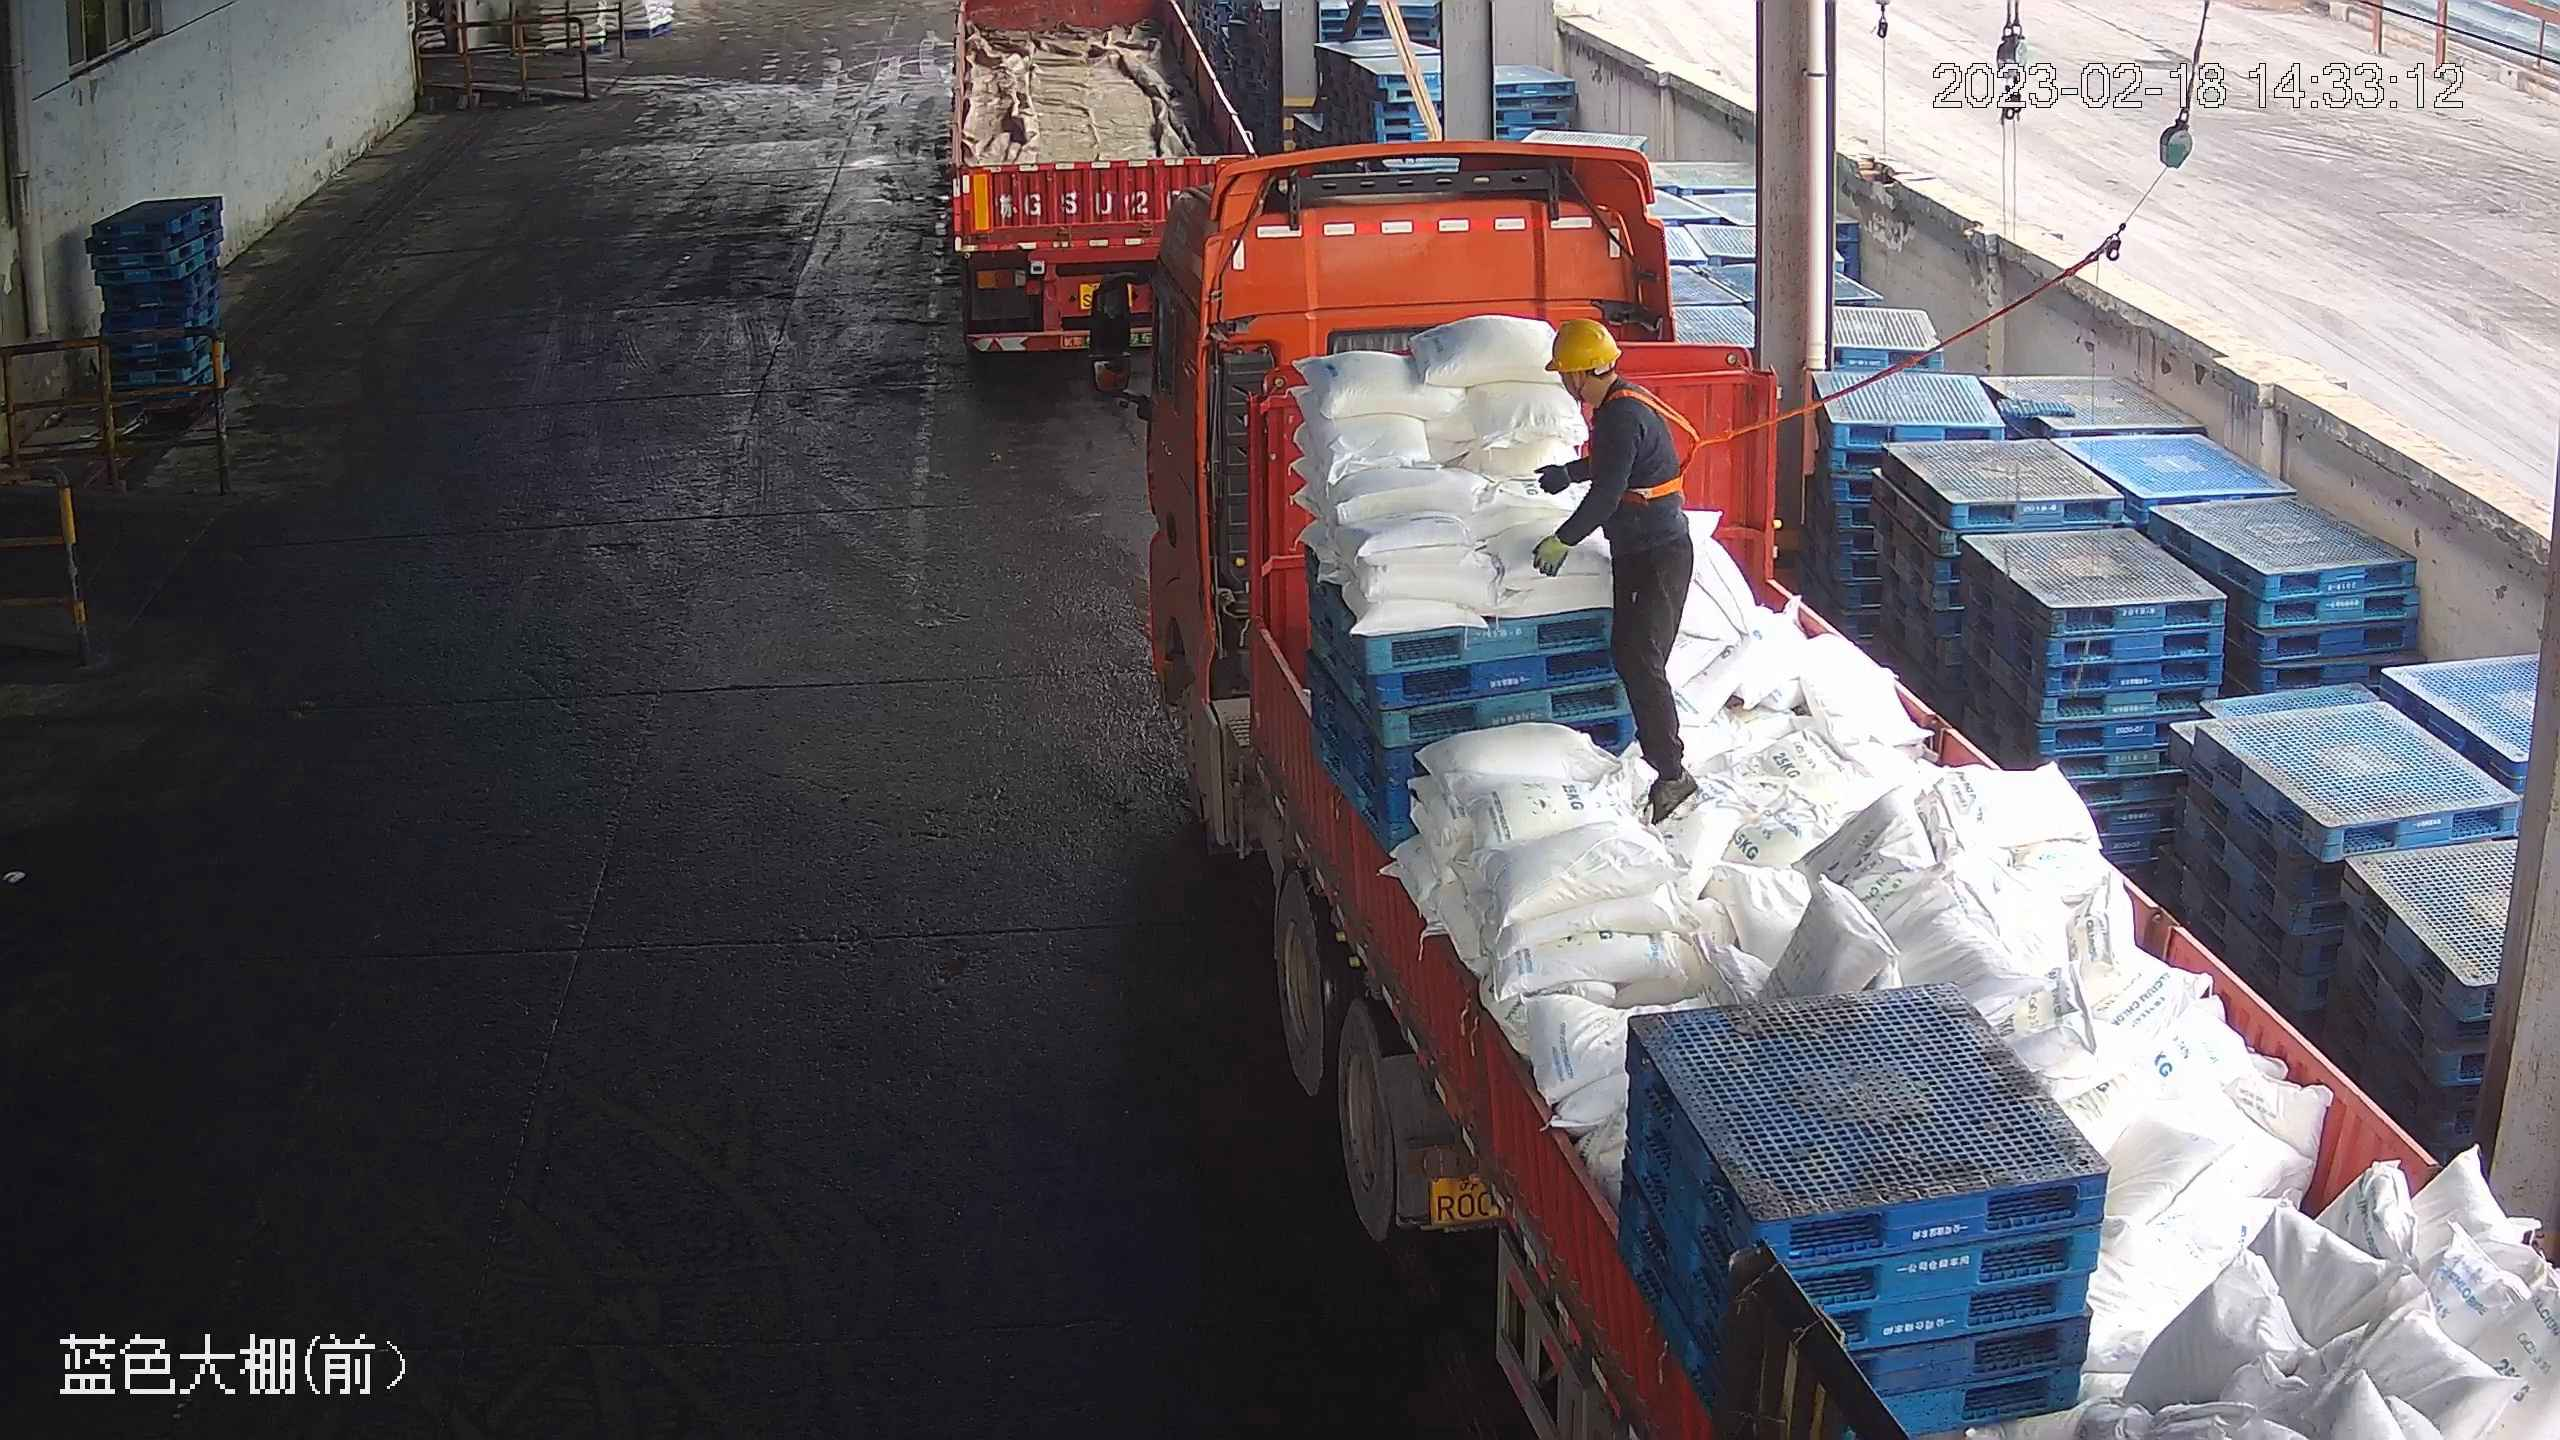belt: (1607, 377, 1726, 503)
head: (1541, 319, 1681, 480)
helmet: (1545, 317, 1621, 373)
people: (1527, 318, 1707, 826)
truck: (1076, 134, 2557, 1440), (940, 4, 1264, 378)
